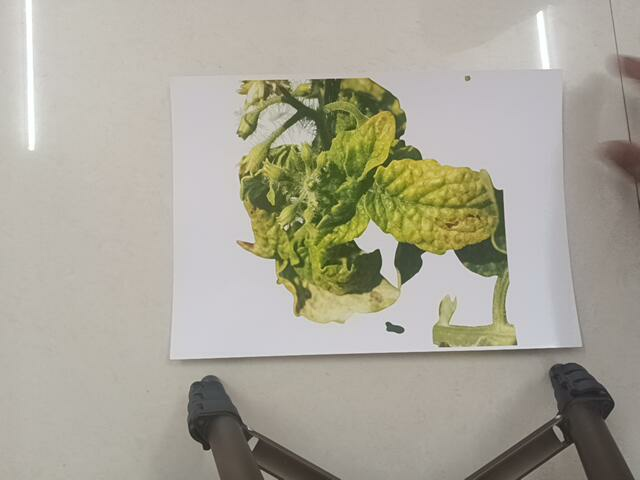Tomamto_Leaf_curl_virus: (230, 79, 528, 350)
